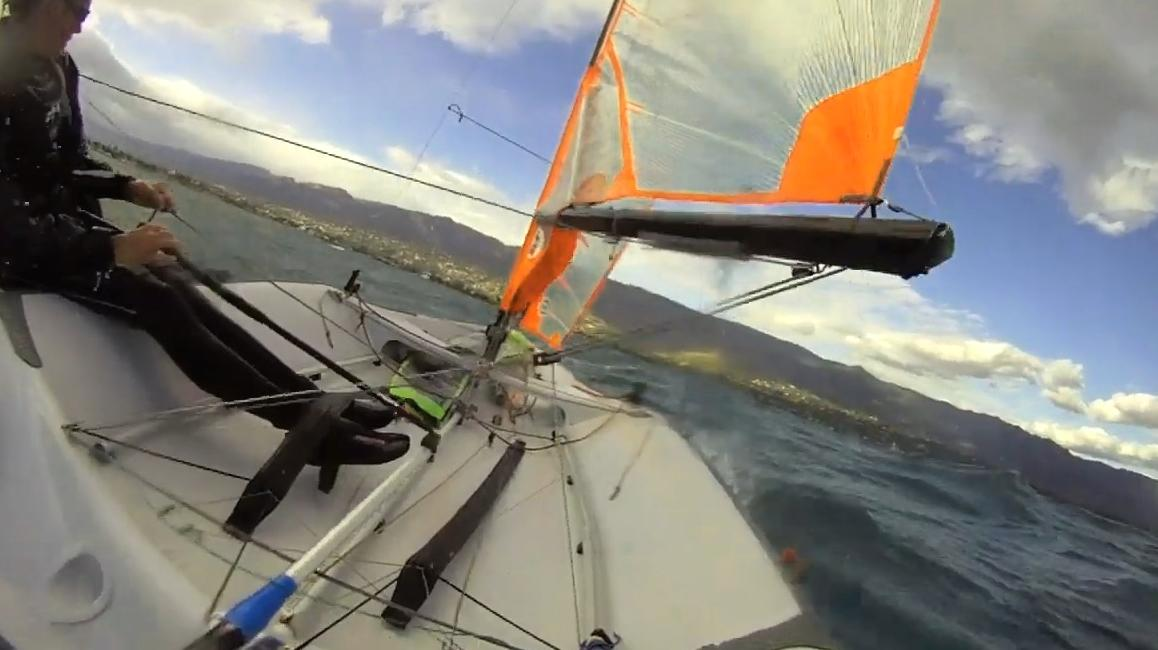boat: (0, 0, 955, 650)
land: (588, 282, 1158, 536), (87, 127, 516, 300)
person: (0, 0, 411, 467)
sea: (562, 350, 1158, 650), (86, 145, 497, 326)
sky: (611, 0, 1158, 476), (66, 0, 614, 245)
